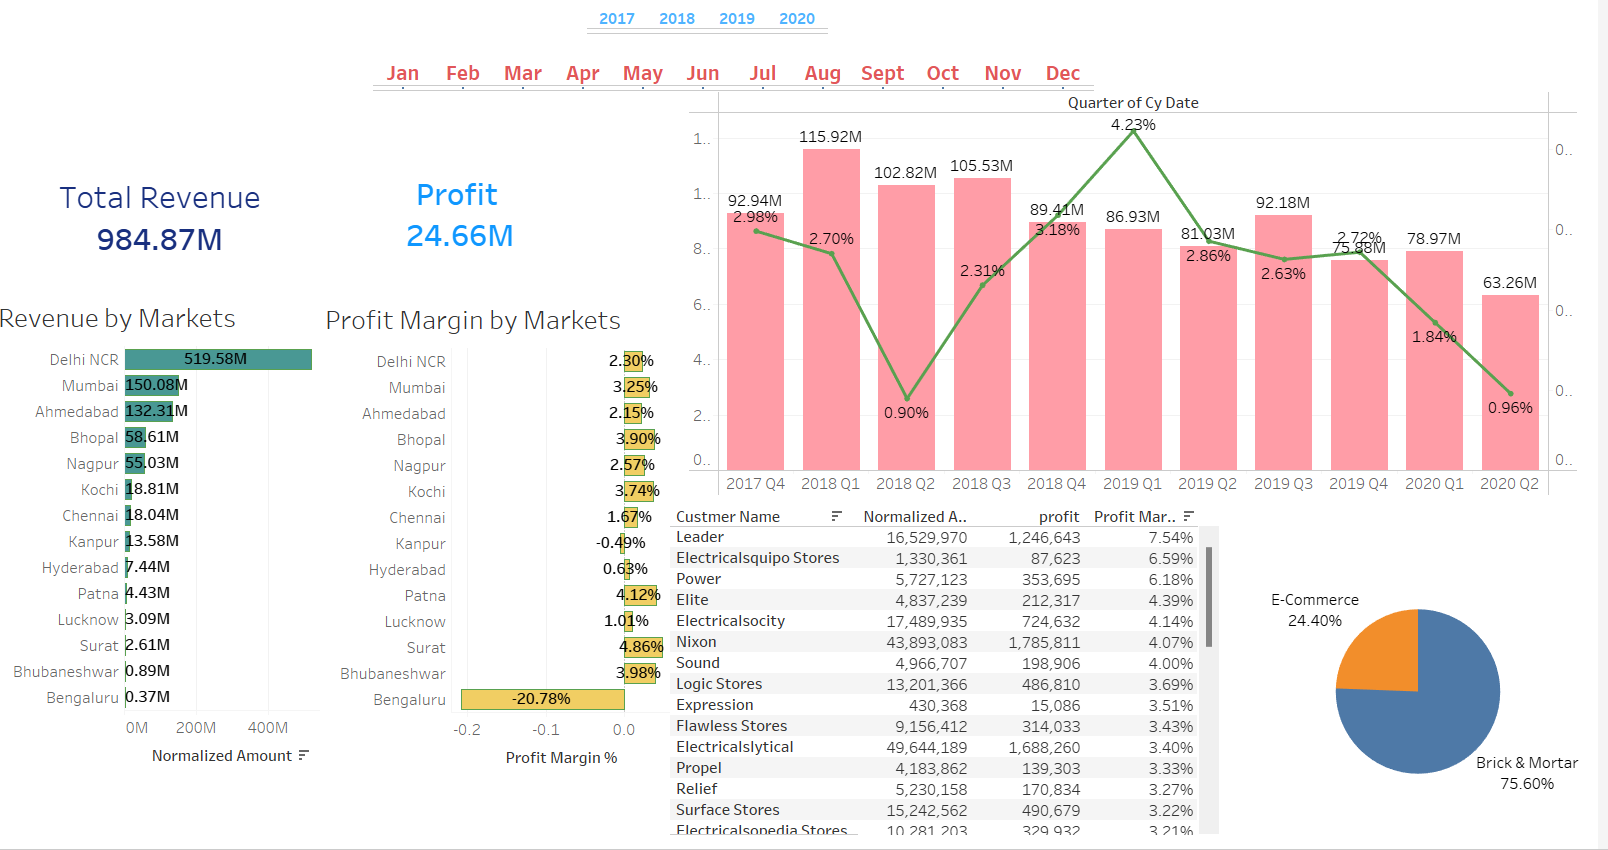

The page's visual inventory and layout, read from the dashboard file:
{"tool":"tableau","page":{"name":"Dashboard Profit_Analysis","canvas":[1600,900],"ordinal":0},"visuals":[{"type":"worksheet","title":"Year","mark":"Automatic","cols":["cy_date"],"box":[595,22,241,43]},{"type":"worksheet","title":"Month","mark":"Automatic","cols":["cy_date"],"box":[375,47,790,99]},{"type":"worksheet","title":"Profit Trend","mark":"Bar","rows":["Calculation_1312799336575832064","Calculation_1724597227760185344"],"cols":["cy_date"],"box":[711,107,889,404]},{"type":"worksheet","title":"Profit","mark":"Automatic","box":[389,125,248,169]},{"type":"worksheet","title":"Revenue","mark":"Automatic","box":[52,178,257,167]},{"type":"worksheet","title":"Profit Margin by Markets","mark":"Automatic","rows":["markets_name"],"cols":["Calculation_1724597227760185344"],"box":[323,301,351,518]},{"type":"worksheet","title":"Customer Table","mark":"Automatic","rows":["custmer_name"],"box":[672,509,552,329]},{"type":"worksheet","title":"Pie Chart","mark":"Pie","box":[1253,530,334,329]}]}

Visuals, with their boxes on the page's 1600x900 design canvas (x1, y1, x2, y2). These are canvas units, not pixel positions in the 1608x850 screenshot, which may show the page scaled, cropped or inside an application window:
"Year" worksheet: region(595, 22, 836, 65)
"Month" worksheet: region(375, 47, 1165, 146)
"Profit Trend" worksheet (Bar marks): region(711, 107, 1600, 511)
"Profit" worksheet: region(389, 125, 637, 294)
"Revenue" worksheet: region(52, 178, 309, 345)
"Profit Margin by Markets" worksheet: region(323, 301, 674, 819)
"Customer Table" worksheet: region(672, 509, 1224, 838)
"Pie Chart" worksheet (Pie marks): region(1253, 530, 1587, 859)
